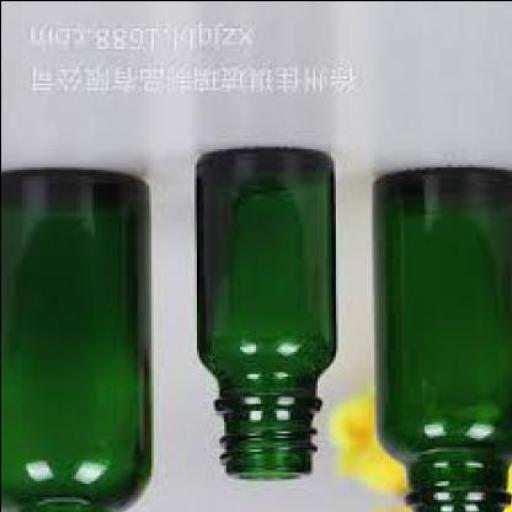glass: (2, 168, 156, 510), (373, 166, 511, 511), (198, 148, 339, 482)
